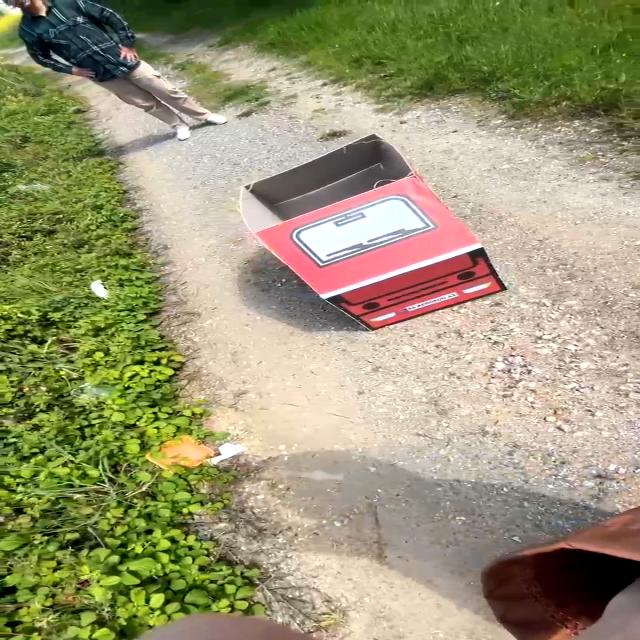red_car: (163, 132, 553, 348)
